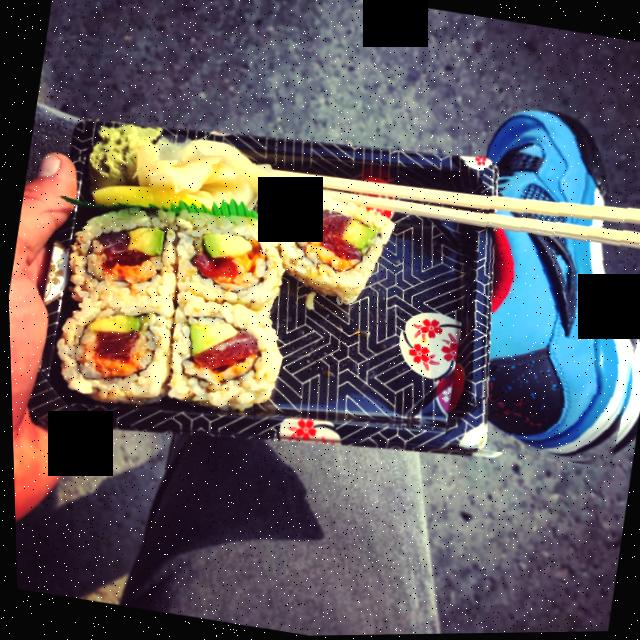shoe: (432, 101, 640, 479)
